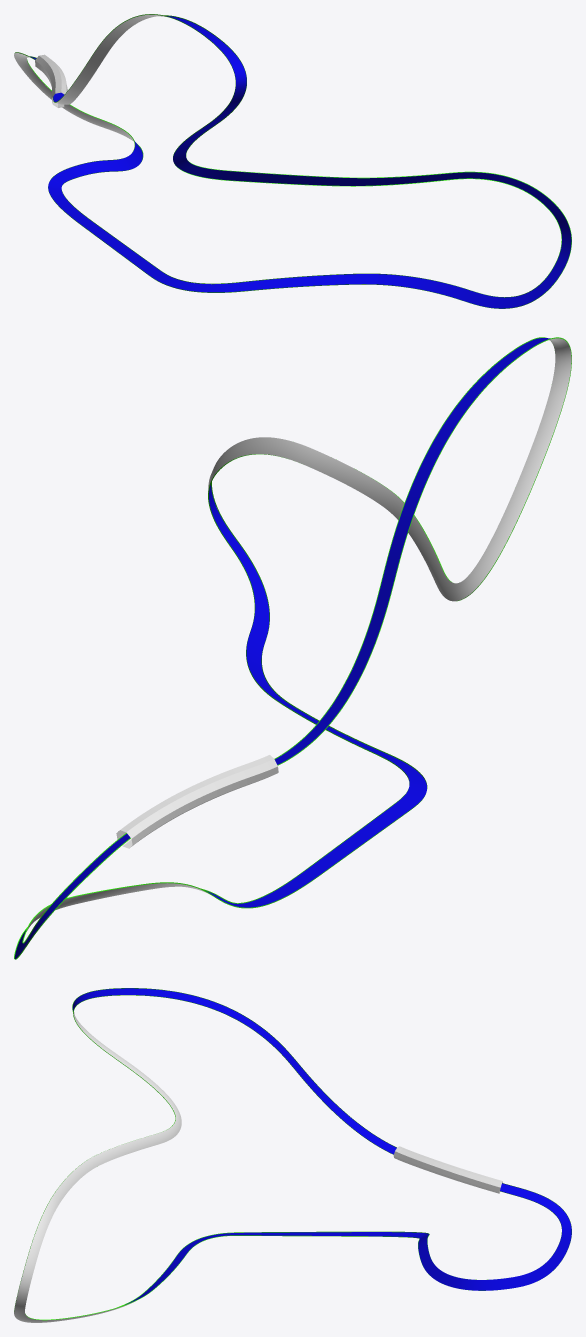
Rendered from track_skromeSkyway.fbx.
The picture shows the model from 3 angles, top to bottom: view 1: azimuth 30°, elevation 25°; view 2: azimuth 150°, elevation 25°; view 3: azimuth 270°, elevation 25°; orthographic projection. The views are drawn at different scales.
Parts seen in each view (by area): view 1: road_testRoad, rail_testRoad, underside_testRoad, skyway_tunnel; view 2: road_testRoad, underside_testRoad, rail_testRoad, skyway_tunnel; view 3: road_testRoad, underside_testRoad, rail_testRoad, skyway_tunnel.
Boxes of the visible parts, x1,y1,x2,y2 form: road_testRoad: [30, 16, 571, 308]; rail_testRoad: [14, 14, 571, 308]; underside_testRoad: [14, 14, 167, 141]; skyway_tunnel: [35, 54, 67, 107]; road_testRoad: [14, 338, 550, 959]; underside_testRoad: [26, 338, 571, 931]; rail_testRoad: [14, 337, 571, 959]; skyway_tunnel: [116, 755, 278, 848]; road_testRoad: [72, 988, 571, 1304]; underside_testRoad: [14, 1012, 181, 1322]; rail_testRoad: [14, 988, 571, 1320]; skyway_tunnel: [393, 1146, 502, 1193].
Bounding box in the file's own units: 105305 × 98213 × 202945.
